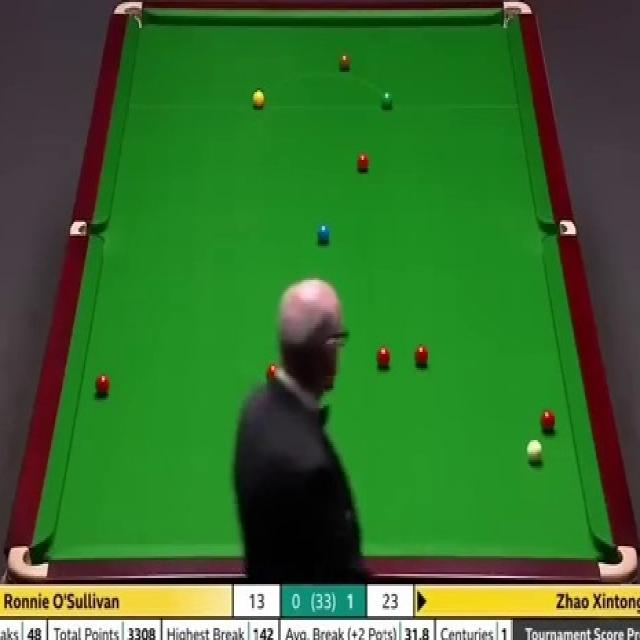blue-ball: (317, 224, 330, 243)
brown-ball: (338, 53, 350, 71)
green-ball: (380, 89, 393, 110)
red-ball: (93, 374, 111, 397), (374, 347, 390, 370), (539, 410, 556, 431), (415, 345, 428, 368), (356, 153, 369, 174), (265, 364, 277, 380)
white-ball: (525, 437, 544, 464)
yellow-ball: (252, 90, 264, 108)
